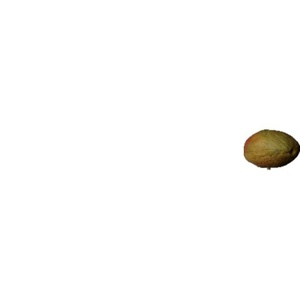mamão: (242, 127, 298, 172)
